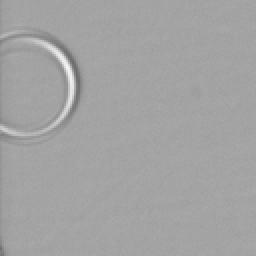picoshell: (0, 30, 78, 140)
